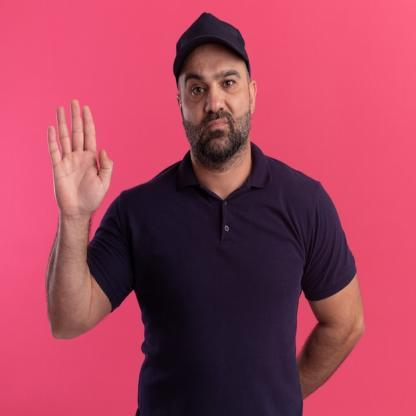stop: (43, 96, 116, 221)
